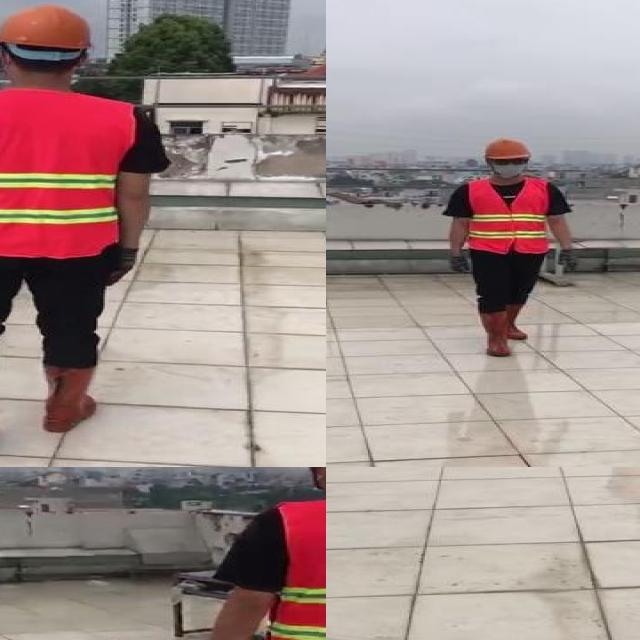boots: (39, 360, 96, 433), (478, 307, 512, 357), (505, 301, 533, 340)
face_mask: (488, 157, 529, 177)
glasses: (488, 156, 531, 168)
hand_glove: (99, 246, 137, 287), (557, 249, 583, 274), (448, 253, 469, 276)
head_helmet: (0, 3, 99, 52), (477, 138, 538, 161)
person: (0, 0, 161, 455), (442, 134, 584, 360), (174, 467, 326, 640)
vest: (0, 91, 129, 257), (276, 499, 326, 640), (468, 179, 548, 252)
